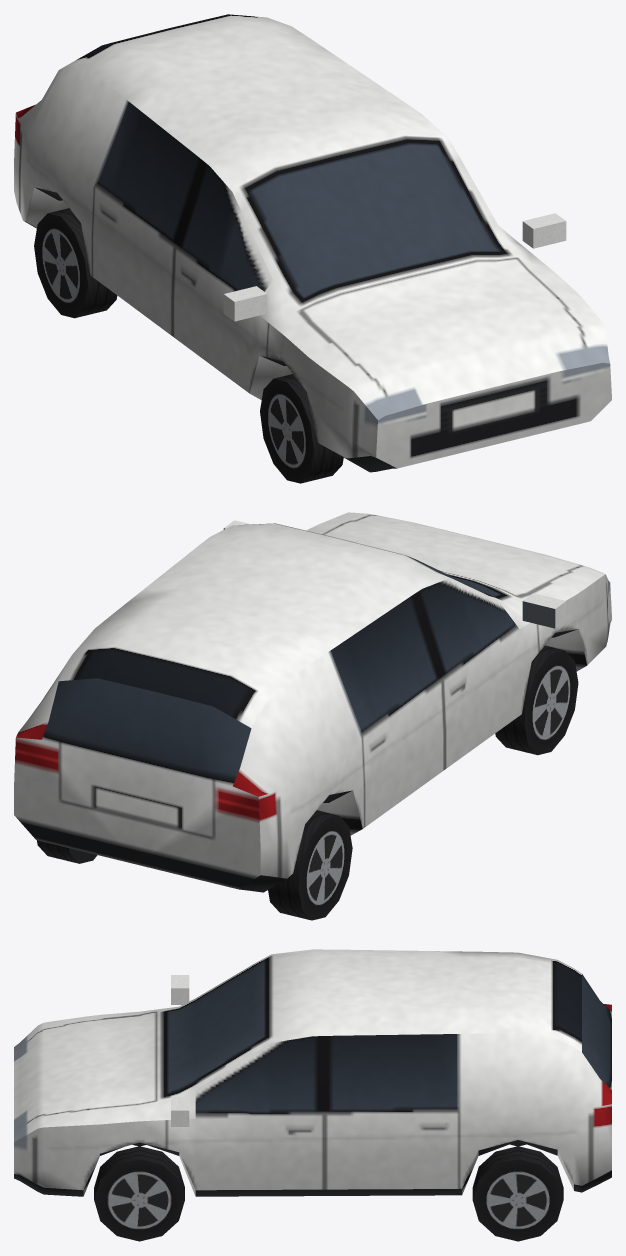
File: SM_Morin_Auto_A_Col_v2_Bianco_LOD1.fbx
3 renders of one model, top to bottom at view 1: azimuth 30°, elevation 25°; view 2: azimuth 150°, elevation 25°; view 3: azimuth 270°, elevation 25°, orthographic. The views are drawn at different scales.
Parts seen in each view (by area): view 1: SM_Morin_Auto_A_Col_v2_Bianco_LOD1; view 2: SM_Morin_Auto_A_Col_v2_Bianco_LOD1; view 3: SM_Morin_Auto_A_Col_v2_Bianco_LOD1.
Part boxes in pixels (bbox=[...]): SM_Morin_Auto_A_Col_v2_Bianco_LOD1: bbox=[14, 14, 611, 483]; SM_Morin_Auto_A_Col_v2_Bianco_LOD1: bbox=[14, 512, 611, 920]; SM_Morin_Auto_A_Col_v2_Bianco_LOD1: bbox=[14, 949, 611, 1241].
Bounding box in the file's own units: 212 × 395 × 150.
1 material, 1 textured.
